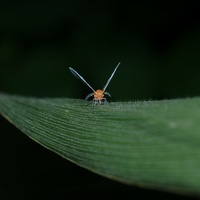insect: (69, 62, 120, 104)
